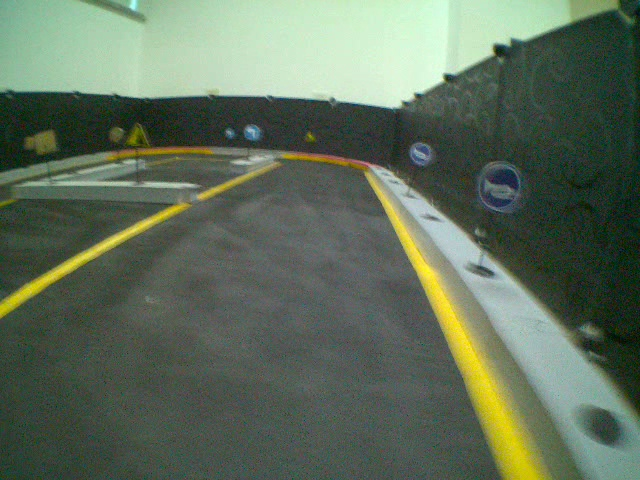fast: (121, 121, 150, 147)
horn: (475, 160, 525, 214), (411, 142, 433, 164)
turn: (243, 122, 260, 142)
